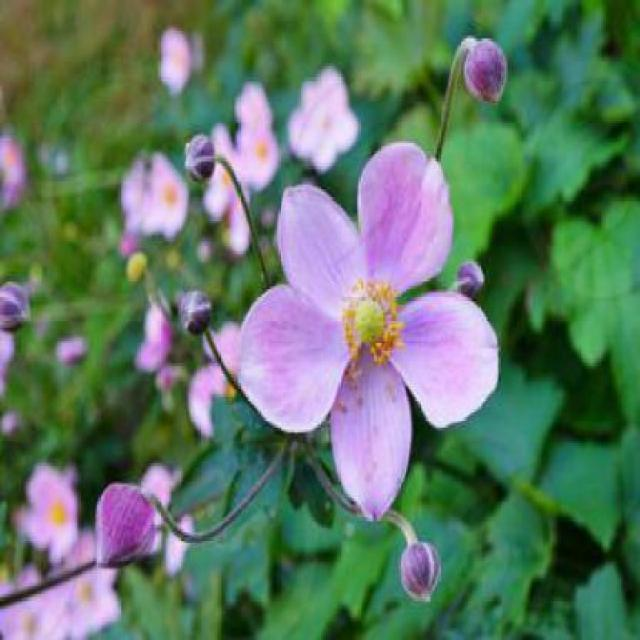Flower: (238, 143, 500, 523), (342, 277, 406, 374)
